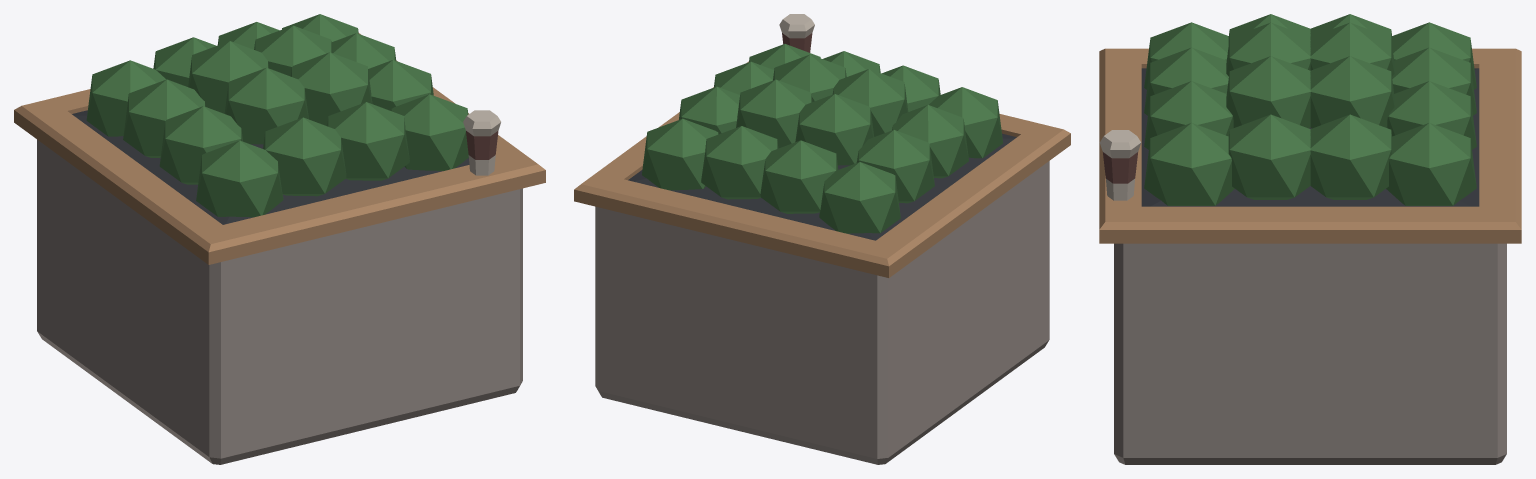
The model's file is planter-box.glb.
3 views of the same model, side by side, from view 1: azimuth 30°, elevation 25°; view 2: azimuth 150°, elevation 25°; view 3: azimuth 270°, elevation 25° (orthographic). The views are drawn at different scales.
Visible parts, largest first — view 1: planter, coffee-cup-mesh; view 2: planter, coffee-cup-mesh; view 3: planter, coffee-cup-mesh.
Part boxes in pixels (bbox=[...]): planter: bbox=[14, 14, 545, 464]; coffee-cup-mesh: bbox=[463, 110, 500, 175]; planter: bbox=[574, 44, 1070, 464]; coffee-cup-mesh: bbox=[779, 14, 814, 52]; planter: bbox=[1099, 14, 1521, 464]; coffee-cup-mesh: bbox=[1099, 130, 1141, 200].
Size of the model in its own units: 1 by 0.9008 by 1.
